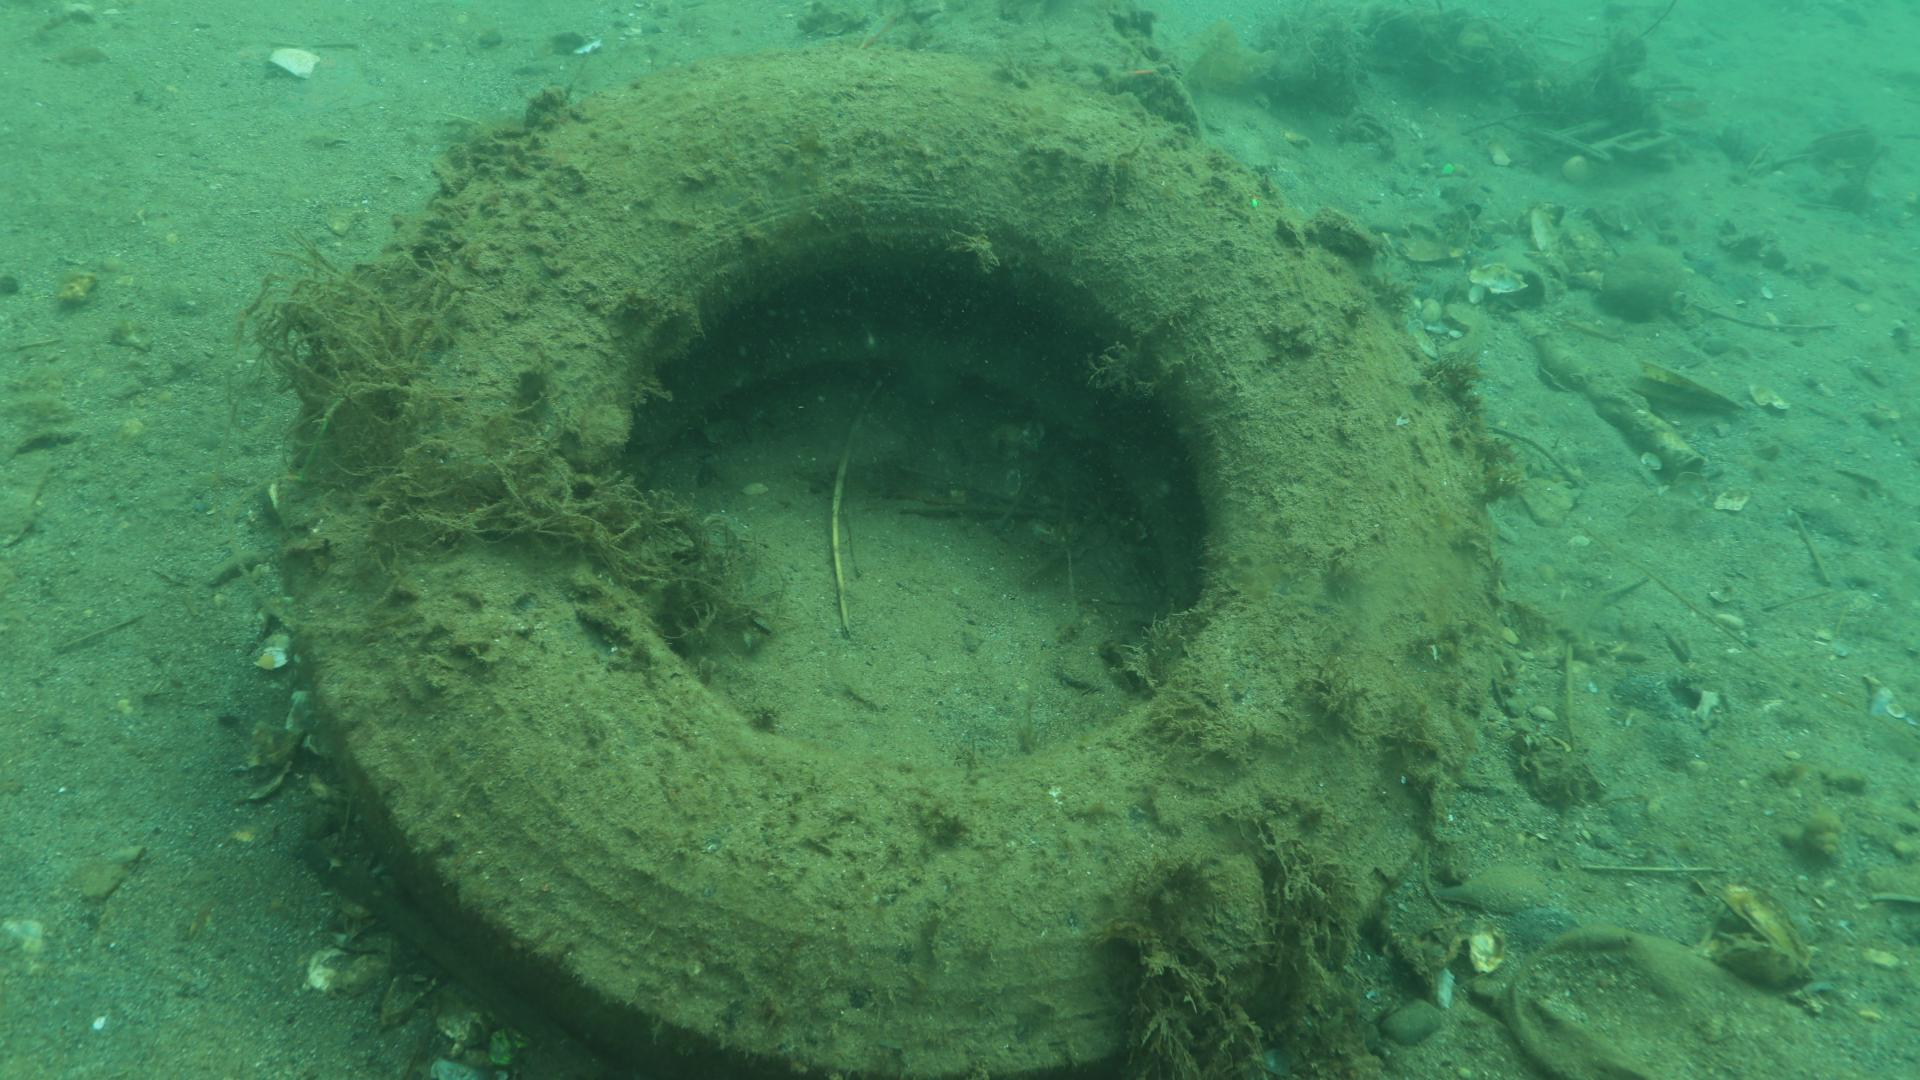tire: (284, 44, 1499, 1073)
